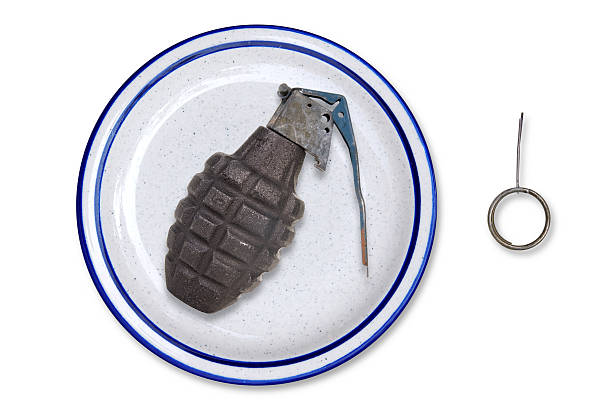e1: (167, 85, 375, 314)
